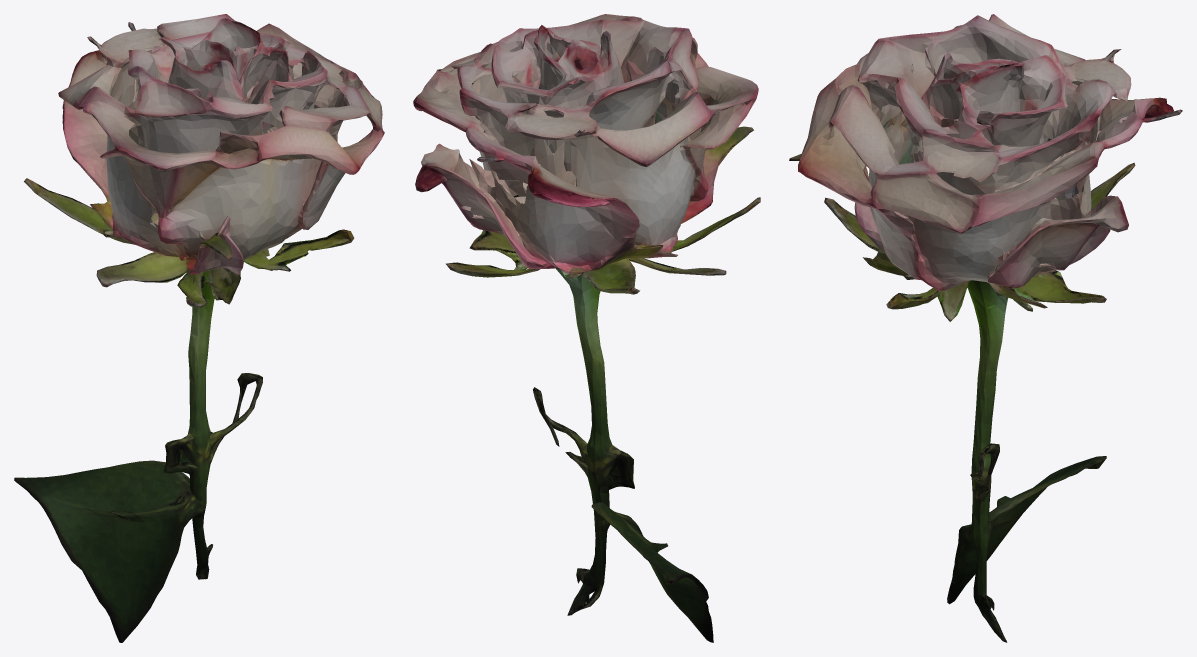
The picture shows the model from 3 angles, left to right: view 1: azimuth 30°, elevation 25°; view 2: azimuth 150°, elevation 25°; view 3: azimuth 270°, elevation 25°; orthographic projection. The views are drawn at different scales.
Parts seen in each view (by area): view 1: world; view 2: world; view 3: world.
Part boxes in pixels (left/top/right/bottom): world: left=14, top=14, right=384, bottom=642; world: left=413, top=14, right=760, bottom=642; world: left=789, top=14, right=1182, bottom=642.
Size of the model in its own units: 0.5494 by 0.9962 by 0.5803.
Materials: 1 (1 with a texture image).
